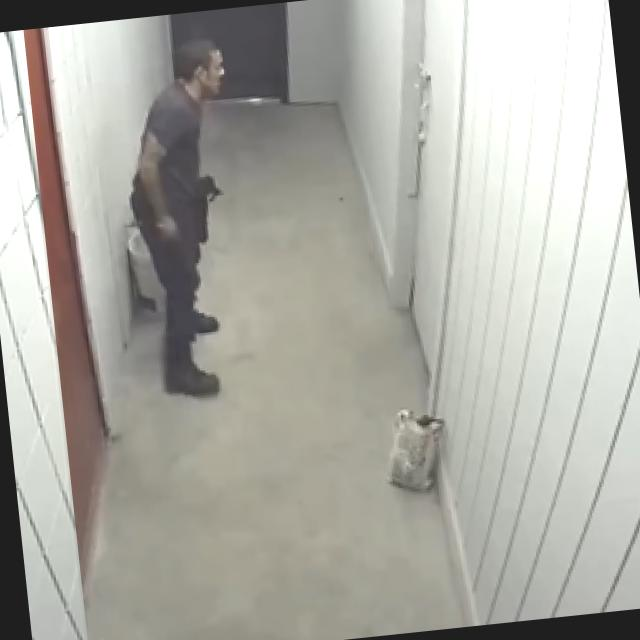person: (112, 34, 257, 403)
